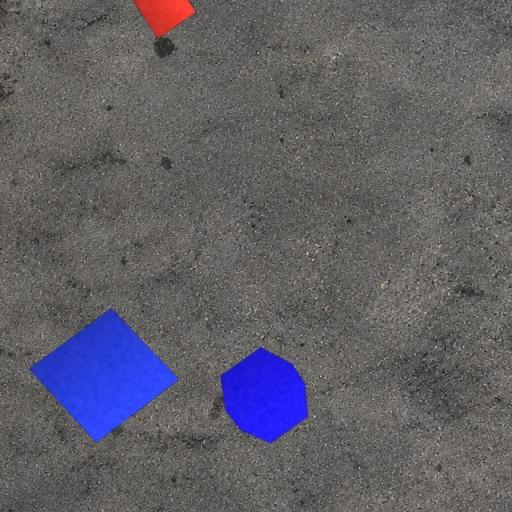BLUE_SQUARE: (29, 308, 180, 443)
RED_SQUARE: (131, 0, 197, 39)
